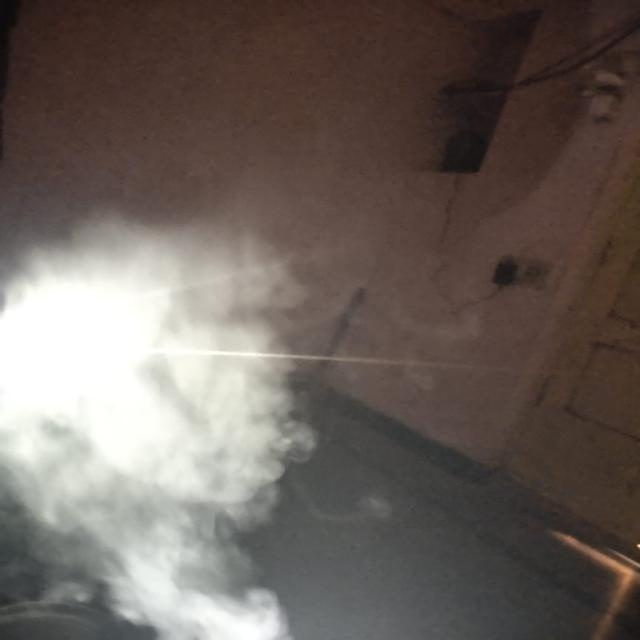smoke: (13, 224, 266, 574)
